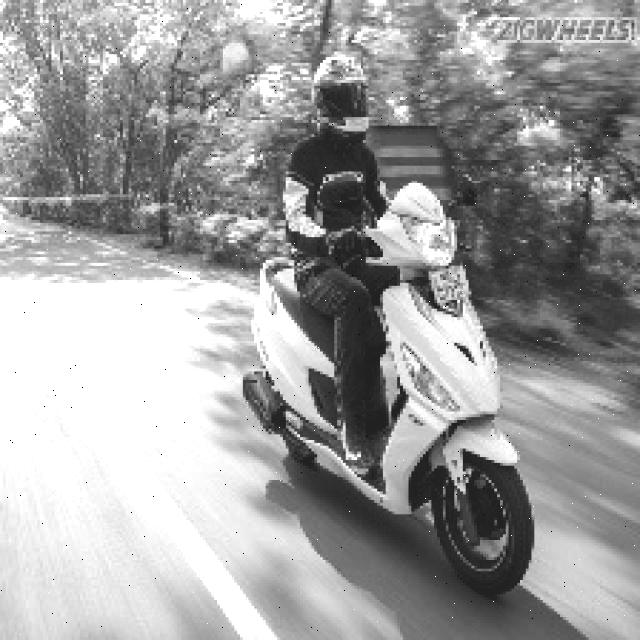Bike: (225, 200, 551, 598)
